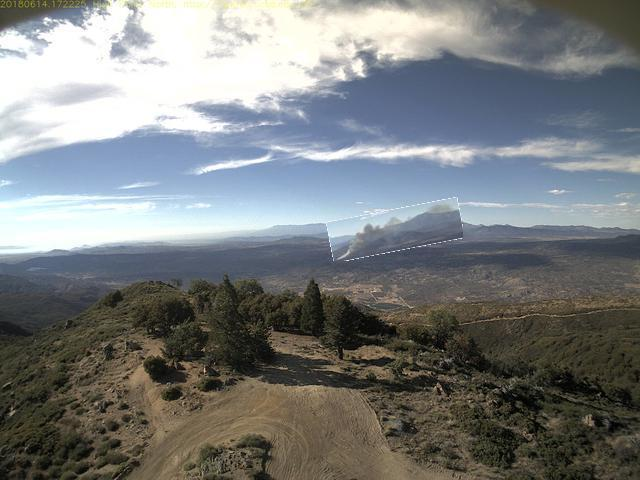smoke: (329, 204, 464, 257)
